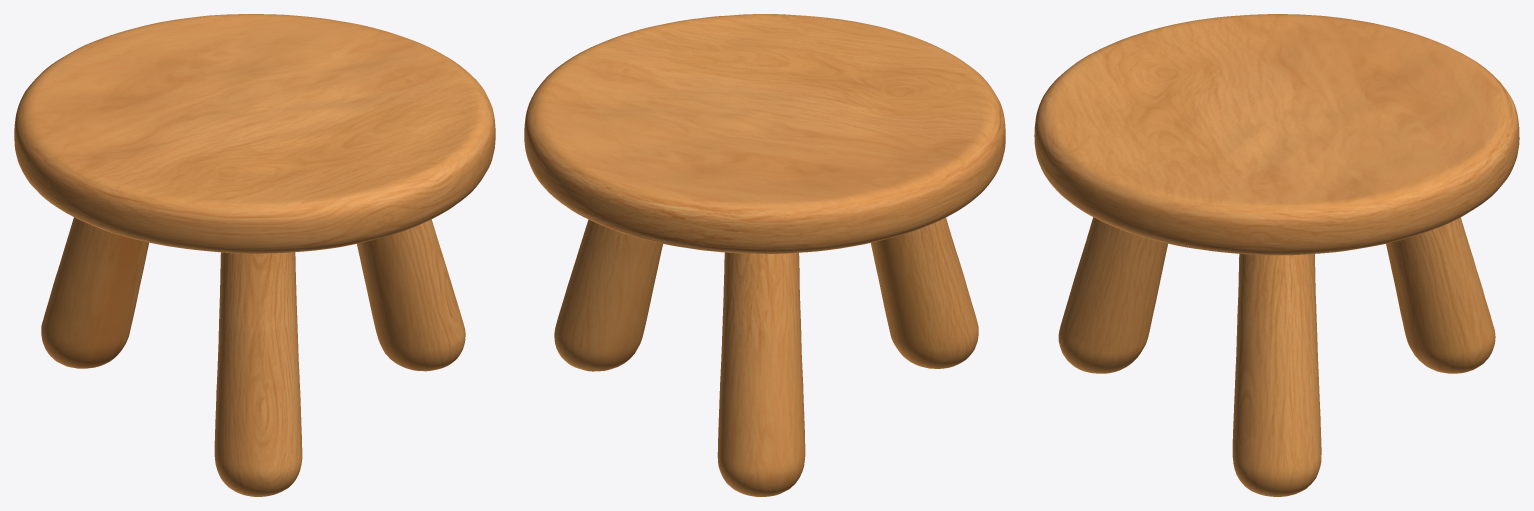
The picture shows the model from 3 angles, left to right: view 1: azimuth 30°, elevation 25°; view 2: azimuth 150°, elevation 25°; view 3: azimuth 270°, elevation 25°; orthographic projection.
Visible parts, largest first — view 1: tripo_node_78805b34; view 2: tripo_node_78805b34; view 3: tripo_node_78805b34.
Boxes of the visible parts, x1=… form: tripo_node_78805b34: x1=14, y1=14, x2=495, y2=496; tripo_node_78805b34: x1=524, y1=14, x2=1005, y2=496; tripo_node_78805b34: x1=1034, y1=14, x2=1519, y2=496.
Bounding box in the file's own units: 99.95 × 67.5 × 99.93.
Materials: 1 (1 with a texture image).
